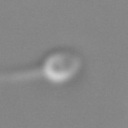normal: (1, 61, 41, 89)
